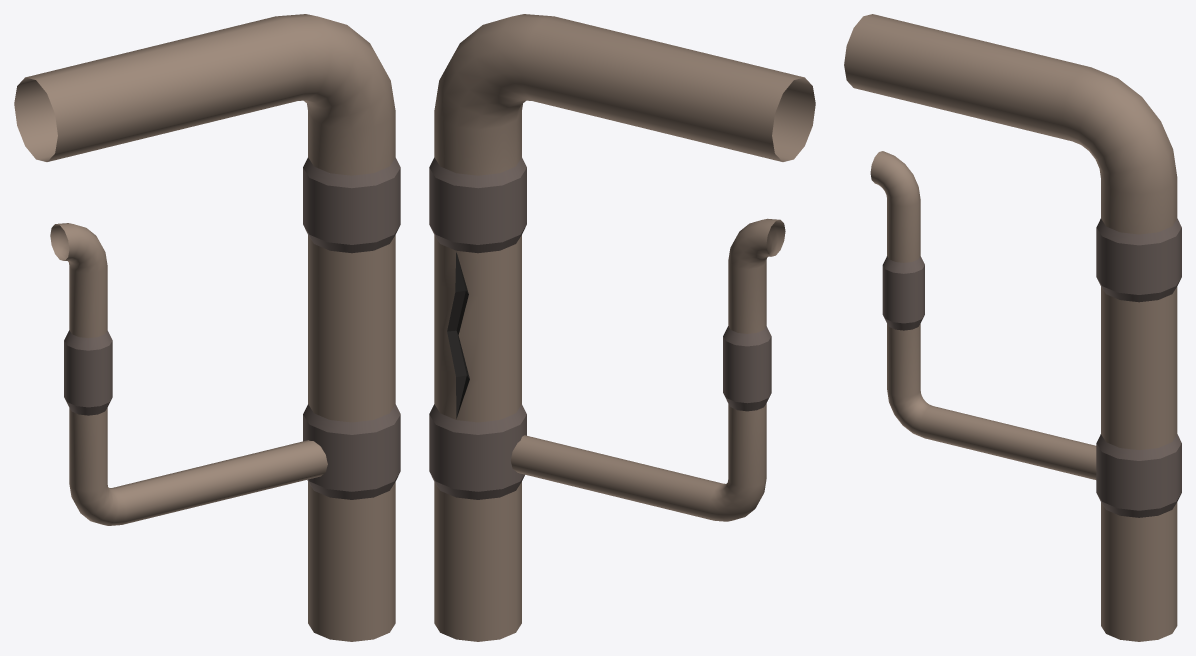
File: Pipes.fbx
3 views of the same model, side by side, from view 1: azimuth 30°, elevation 25°; view 2: azimuth 150°, elevation 25°; view 3: azimuth 330°, elevation 25° (orthographic). The views are drawn at different scales.
Parts seen in each view (by area): view 1: Pipes, Cracked Pipe; view 2: Pipes, Cracked Pipe; view 3: Pipes, Cracked Pipe.
Part boxes in pixels (<box>): Pipes: <box>14,14,400,641</box>; Cracked Pipe: <box>303,157,400,422</box>; Pipes: <box>429,14,815,641</box>; Cracked Pipe: <box>429,157,526,422</box>; Pipes: <box>844,14,1181,641</box>; Cracked Pipe: <box>1096,218,1181,449</box>.
Bounding box in the file's own units: 112 × 26.48 × 185.
